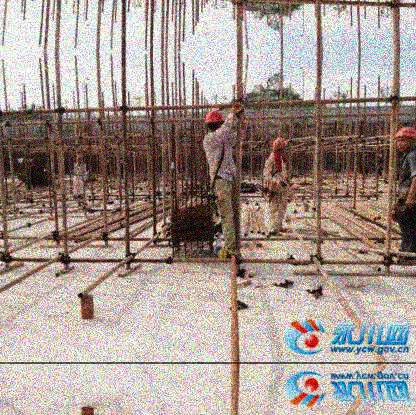helmet: (396, 127, 416, 154), (206, 110, 225, 133), (272, 138, 288, 155), (77, 155, 82, 164)
